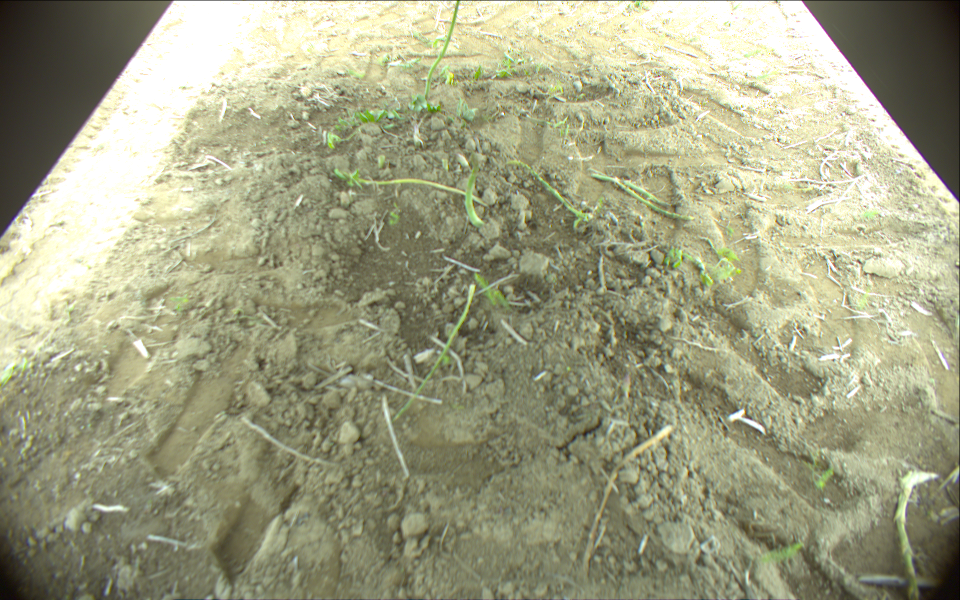aspa: (397, 283, 474, 421), (893, 471, 941, 600), (502, 159, 589, 224), (592, 174, 694, 221), (349, 177, 489, 205), (424, 1, 462, 100), (619, 178, 674, 205), (463, 162, 481, 227)
